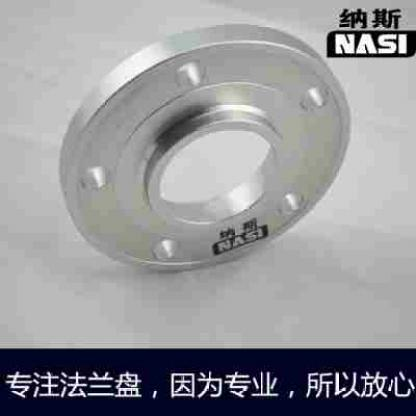FOD: (55, 21, 356, 276)
